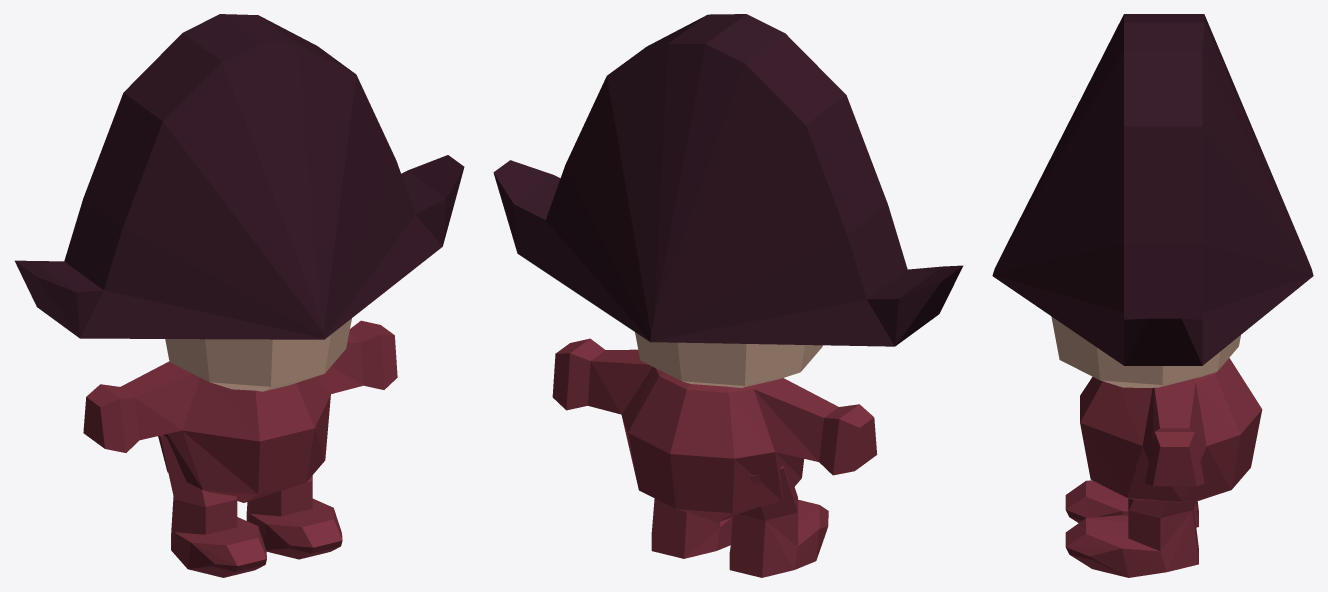
Rendered from PlayerMesh.FBX.
3 renders of one model, left to right at view 1: azimuth 30°, elevation 25°; view 2: azimuth 150°, elevation 25°; view 3: azimuth 270°, elevation 25°, orthographic. The views are drawn at different scales.
Visible parts, largest first — view 1: Sphere001; view 2: Sphere001; view 3: Sphere001.
Boxes of the visible parts, x1=… form: Sphere001: x1=15, y1=14, x2=464, y2=577; Sphere001: x1=493, y1=14, x2=962, y2=577; Sphere001: x1=992, y1=14, x2=1313, y2=577.
Size of the model in its own units: 91.36 by 103 by 57.73.
